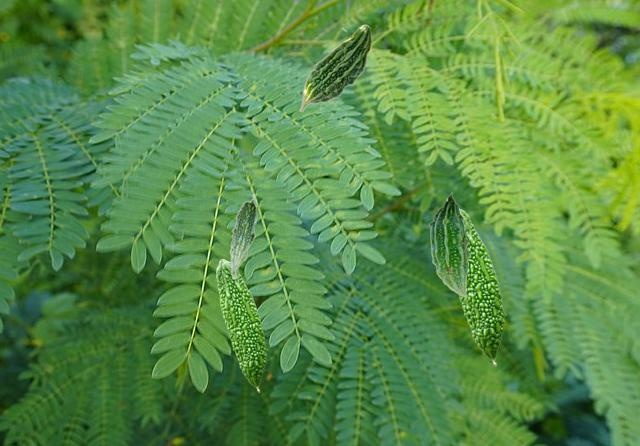ampalaya: (459, 208, 506, 367), (215, 258, 268, 393), (299, 24, 372, 112), (428, 191, 471, 298), (229, 193, 257, 280)
